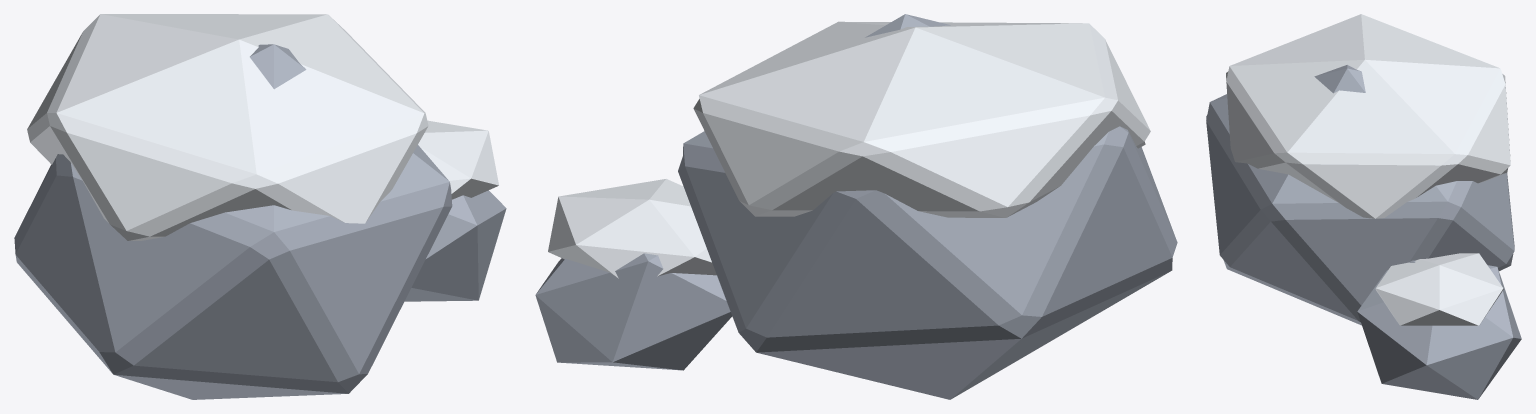
Rendered from rock_snow_medium.glb.
The picture shows the model from 3 angles, left to right: view 1: azimuth 30°, elevation 25°; view 2: azimuth 150°, elevation 25°; view 3: azimuth 270°, elevation 25°; orthographic projection. The views are drawn at different scales.
Visible parts, largest first — view 1: Rock, RockSnow, RockChip, ChipSnow; view 2: Rock, RockSnow, RockChip, ChipSnow; view 3: RockSnow, Rock, RockChip, ChipSnow.
Part boxes in pixels (x1=…): Rock: x1=14, y1=44, x2=452, y2=399; RockSnow: x1=27, y1=14, x2=428, y2=240; RockChip: x1=404, y1=190, x2=506, y2=301; ChipSnow: x1=418, y1=120, x2=498, y2=199; Rock: x1=678, y1=14, x2=1177, y2=399; RockSnow: x1=693, y1=21, x2=1150, y2=217; RockChip: x1=535, y1=253, x2=732, y2=370; ChipSnow: x1=548, y1=179, x2=716, y2=278; RockSnow: x1=1226, y1=14, x2=1510, y2=218; Rock: x1=1206, y1=65, x2=1514, y2=325; RockChip: x1=1357, y1=260, x2=1521, y2=399; ChipSnow: x1=1375, y1=253, x2=1503, y2=325.
Size of the model in its own units: 0.953 by 0.6365 by 0.7182.
